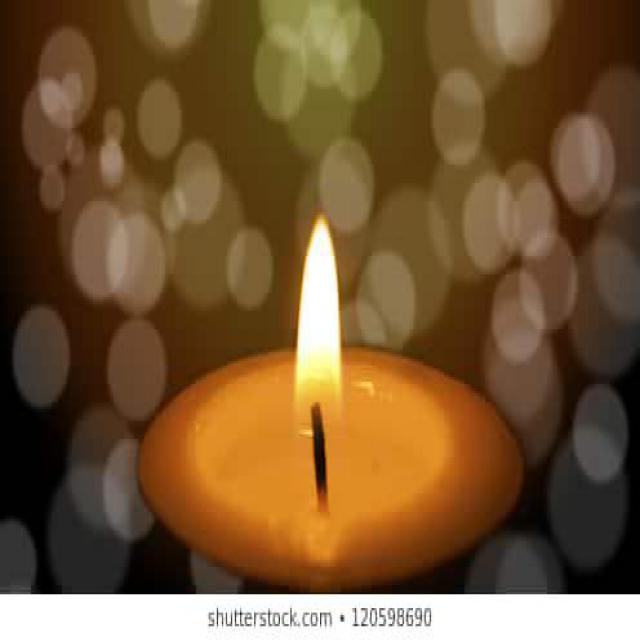Fire: (295, 214, 342, 442)
